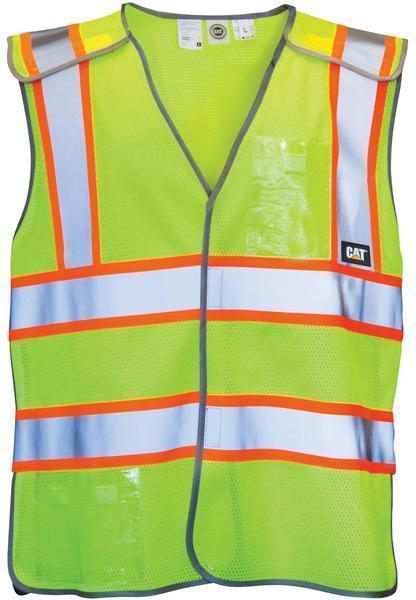vest: (4, 1, 408, 597)
